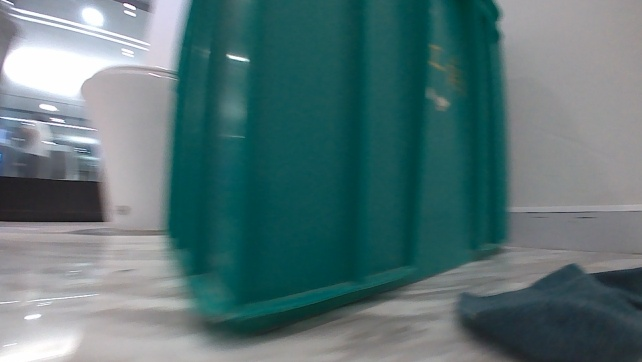socks: (449, 260, 641, 361)
toilet: (80, 60, 175, 234)
